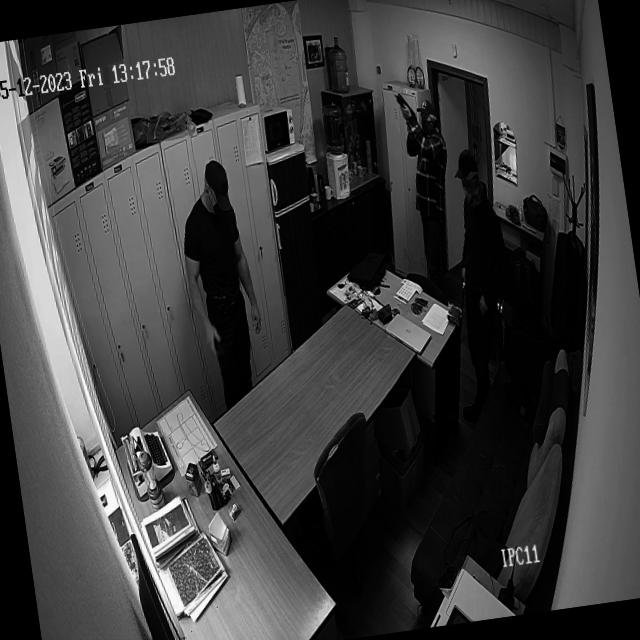gun: (394, 89, 420, 134)
person: (170, 158, 276, 410), (448, 150, 522, 400)
person with a gun: (396, 84, 471, 300)
